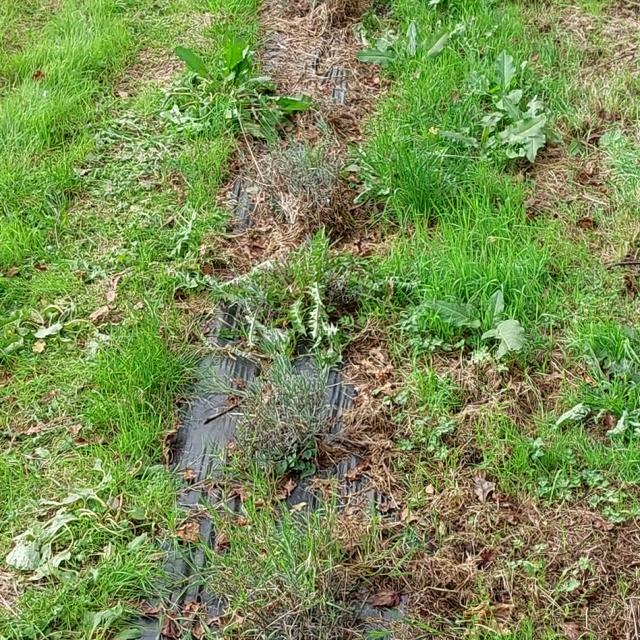organic waste: (168, 32, 330, 157), (421, 109, 564, 192), (344, 0, 472, 84), (418, 280, 550, 361), (16, 298, 131, 363), (5, 504, 85, 590), (442, 47, 535, 112)
